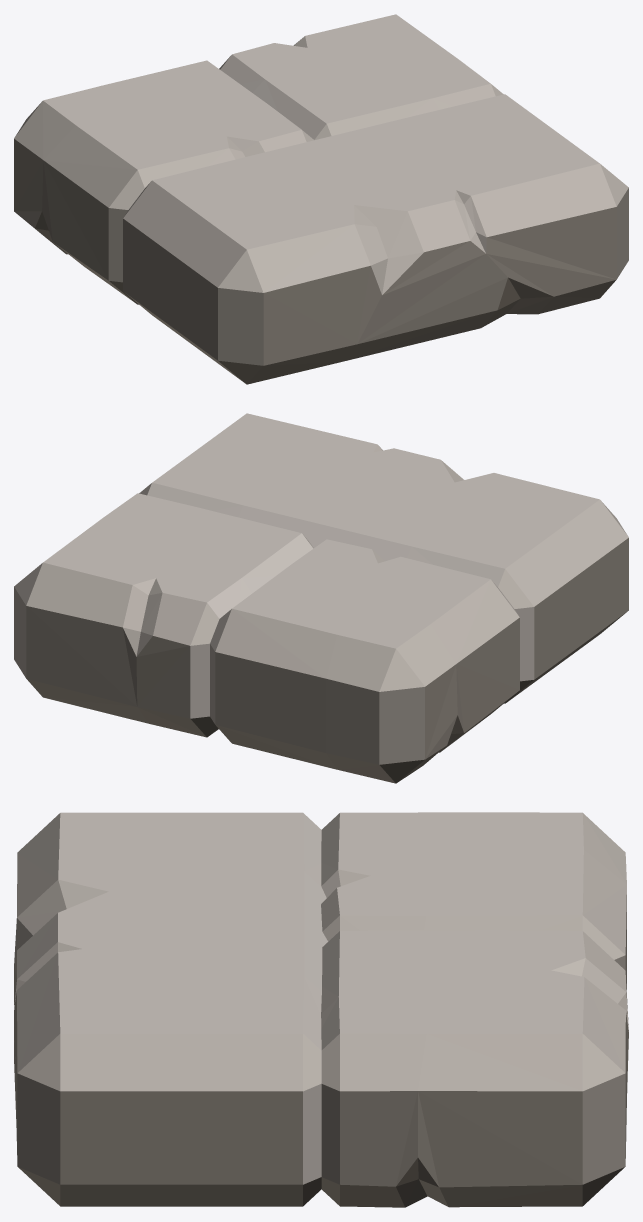
Rendered from m_kub_stone_floorMixed.FBX.
3 renders of one model, top to bottom at view 1: azimuth 30°, elevation 25°; view 2: azimuth 150°, elevation 25°; view 3: azimuth 270°, elevation 25°, orthographic. The views are drawn at different scales.
Parts seen in each view (by area): view 1: m_kub_stone_floorMixed; view 2: m_kub_stone_floorMixed; view 3: m_kub_stone_floorMixed.
Part boxes in pixels (x1,y1,x2,y2): m_kub_stone_floorMixed: (14, 14, 628, 384); m_kub_stone_floorMixed: (14, 413, 628, 783); m_kub_stone_floorMixed: (14, 812, 628, 1207).
Bounding box in the file's own units: 2.2 × 0.6825 × 2.2.
